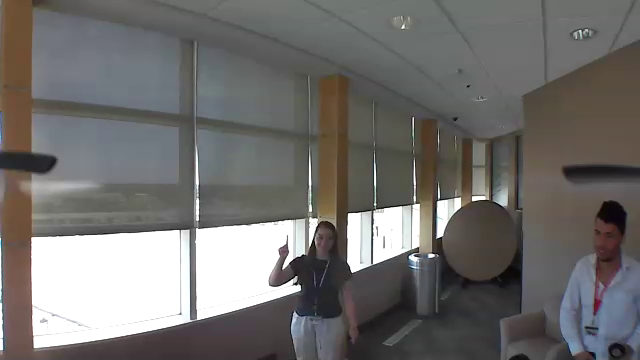up: (275, 233, 294, 262)
